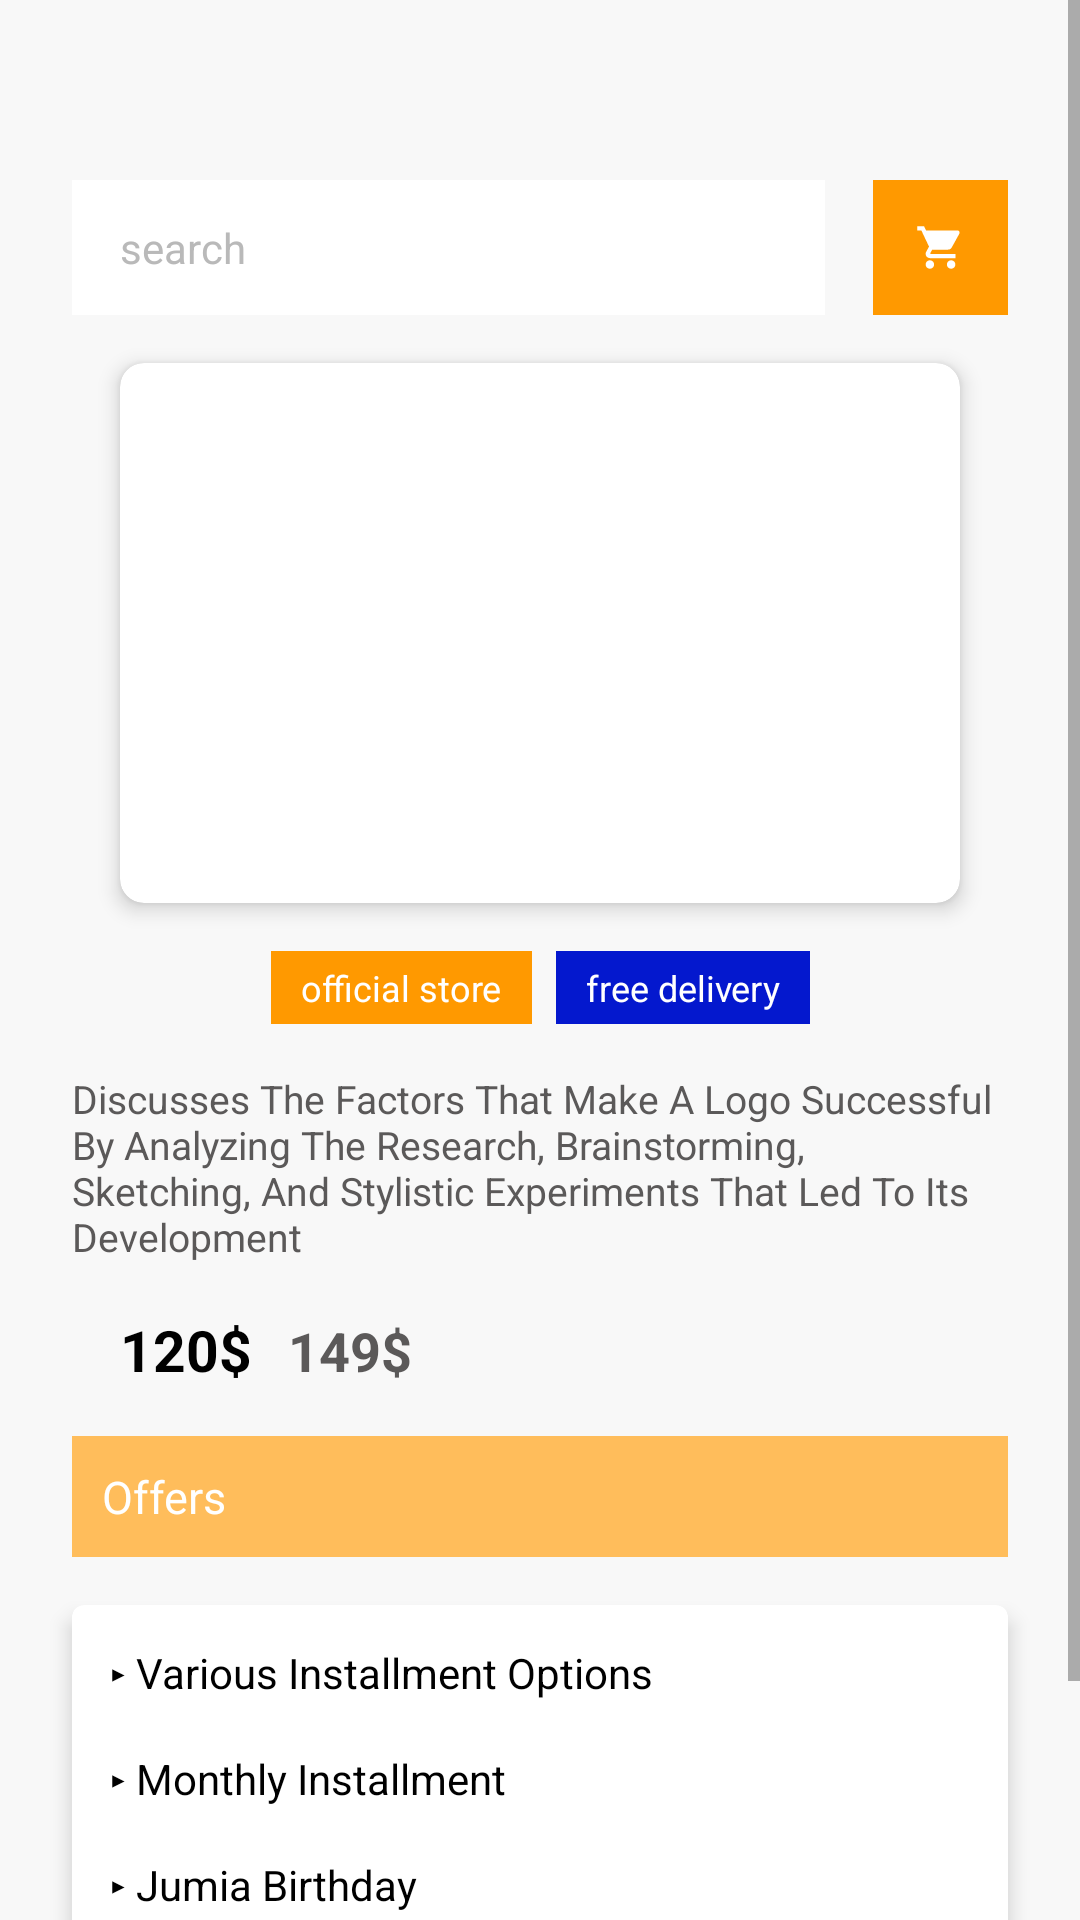

Icon click points for this 1080×1920 phone screenshot, format (x=x, y=y):
My Cart: (x=940, y=247)
